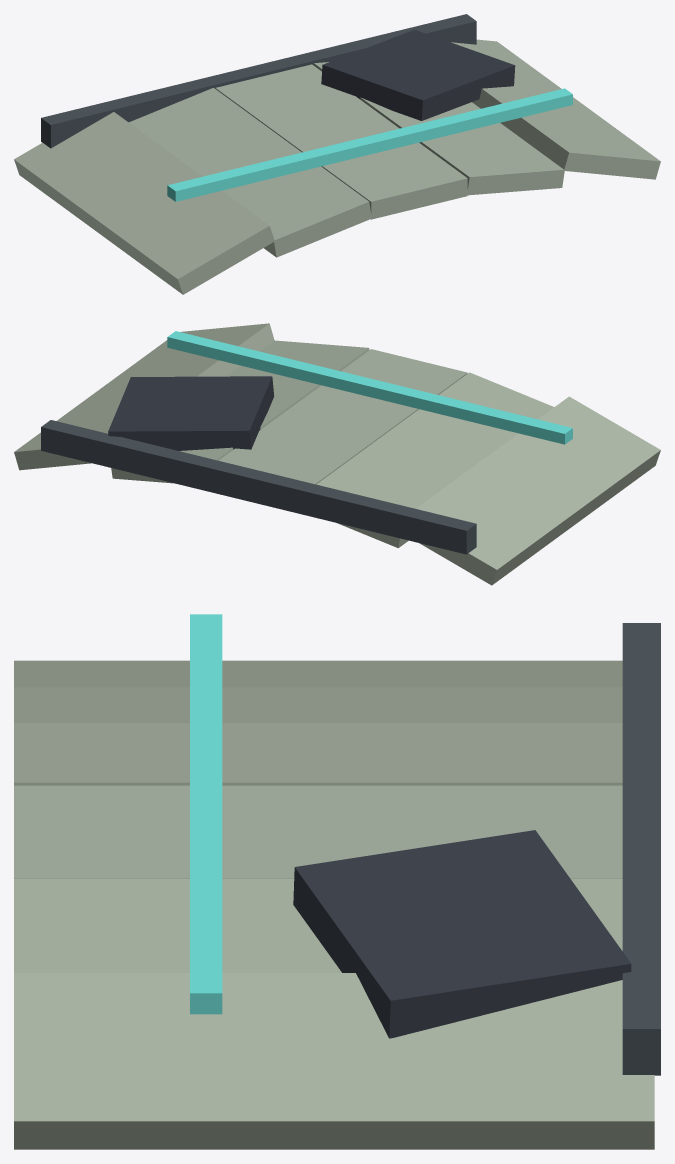
File: SH_HullPanel_01.glb
The picture shows the model from 3 angles, top to bottom: view 1: azimuth 30°, elevation 25°; view 2: azimuth 150°, elevation 25°; view 3: azimuth 270°, elevation 25°; orthographic projection. The views are drawn at different scales.
Visible parts, largest first — view 1: SH_HullPanel_01; view 2: SH_HullPanel_01; view 3: SH_HullPanel_01.
Part boxes in pixels (x1,y1,x2,y2): SH_HullPanel_01: (14,14,660,294); SH_HullPanel_01: (14,323,660,585); SH_HullPanel_01: (14,614,660,1149).
Size of the model in its own units: 0.851 by 0.1111 by 0.505.
Materials: 1 (1 with a texture image).
